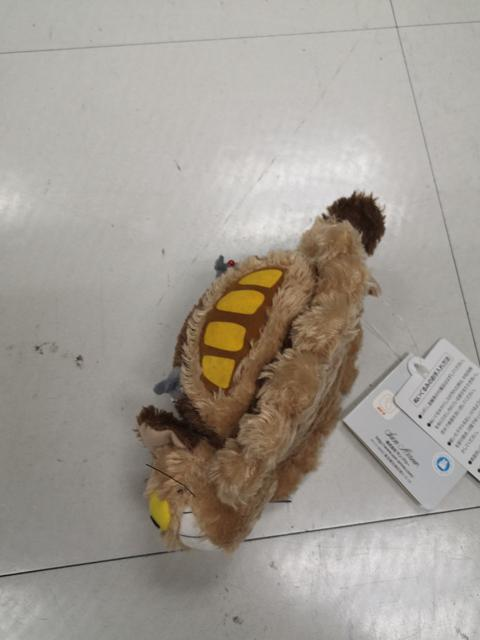nekobus: (129, 188, 391, 558)
